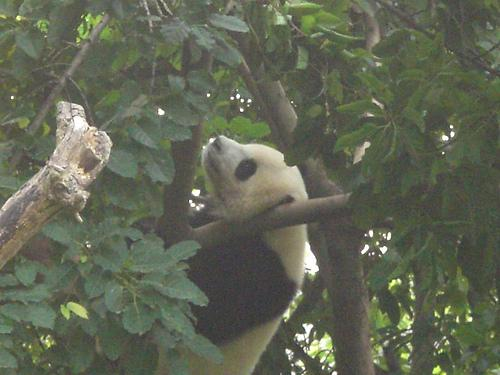panda: (179, 136, 310, 374)
